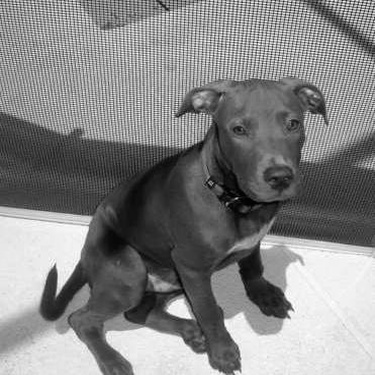dog: (30, 67, 332, 371)
